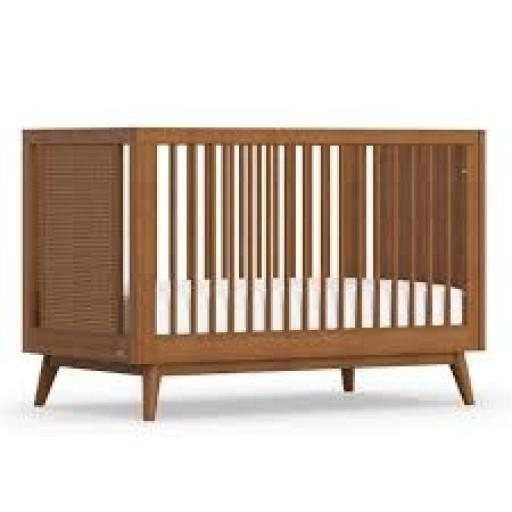crib: (23, 128, 486, 422)
